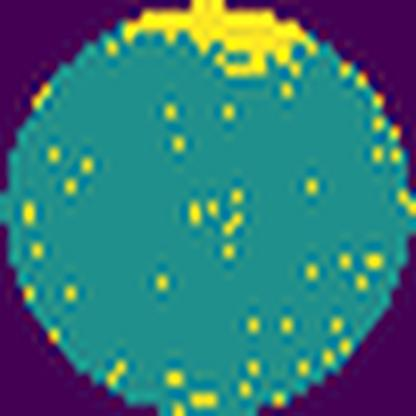Edge-Loc: (120, 0, 322, 78)
